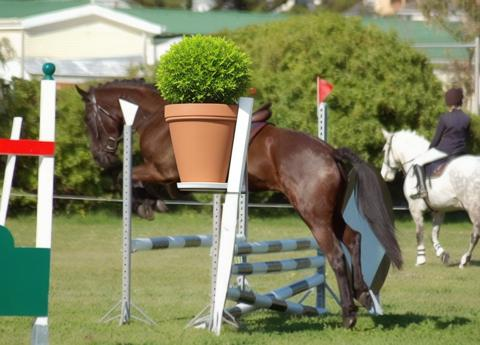horse: (75, 78, 405, 330), (382, 129, 480, 270)
person: (410, 89, 473, 200)
pottedplant: (154, 33, 254, 193)
